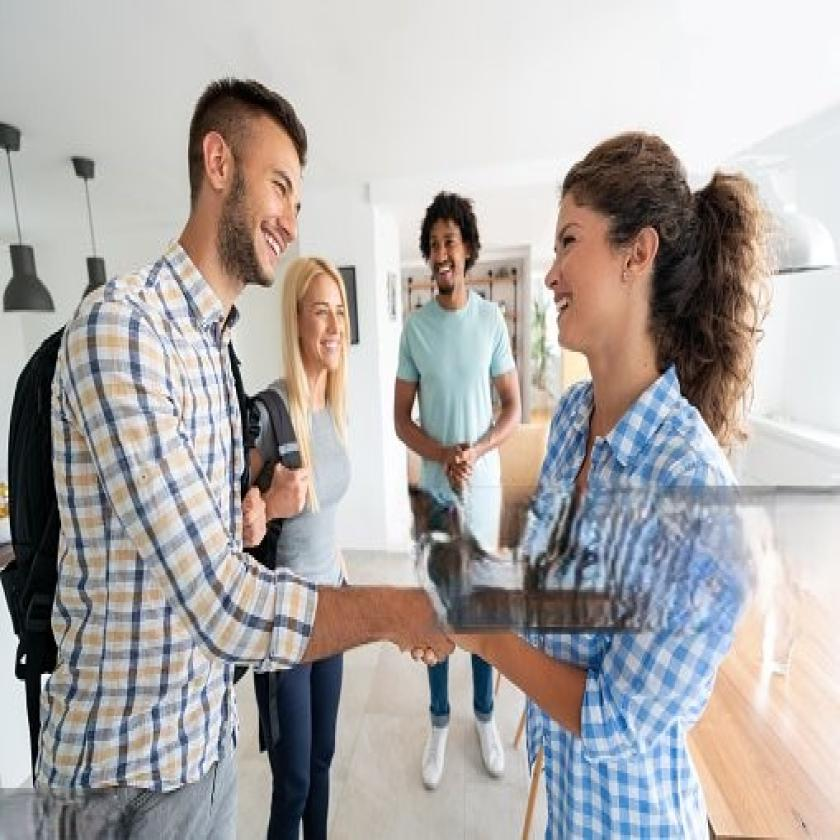Sin_casco: (538, 126, 704, 406), (183, 68, 308, 305), (277, 250, 360, 412), (421, 184, 478, 318)
